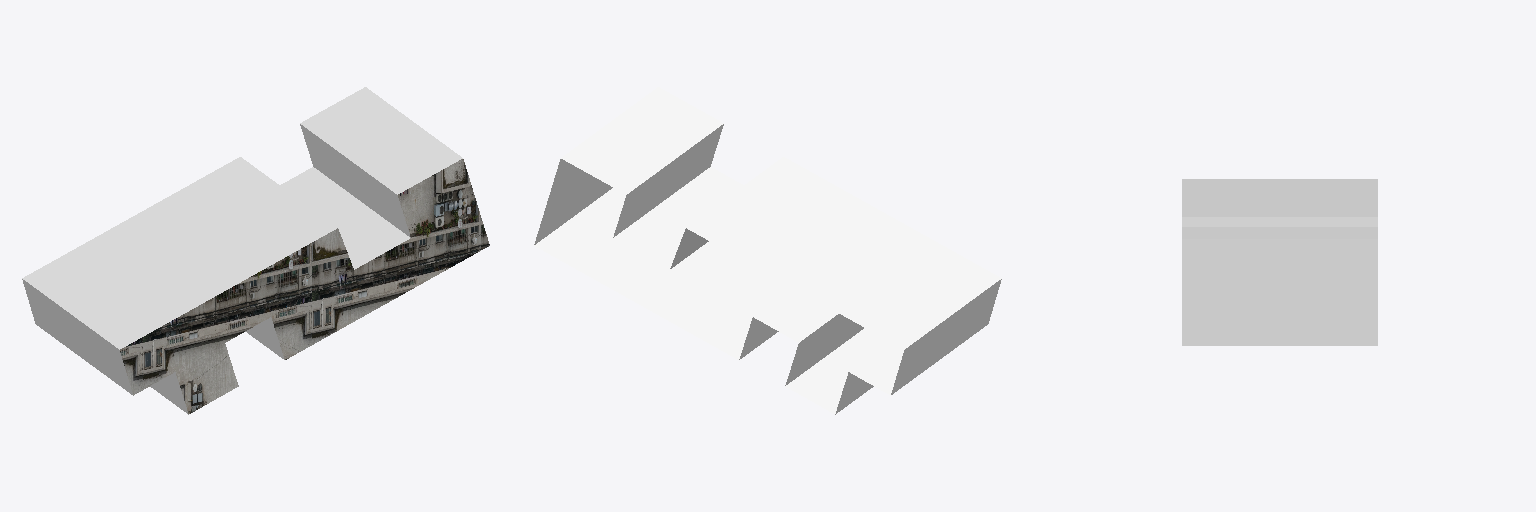
3 views of the same model, side by side, from view 1: azimuth 30°, elevation 25°; view 2: azimuth 150°, elevation 25°; view 3: azimuth 270°, elevation 25° (orthographic).
Parts seen in each view (by area): view 1: Building; view 2: Building; view 3: Building.
Boxes of the visible parts, <box> form: Building: <box>22,87,489,414</box>; Building: <box>534,87,1001,414</box>; Building: <box>1182,179,1377,345</box>.
Bounding box in the file's own units: 26.27 × 12.85 × 12.
2 materials, 1 textured.